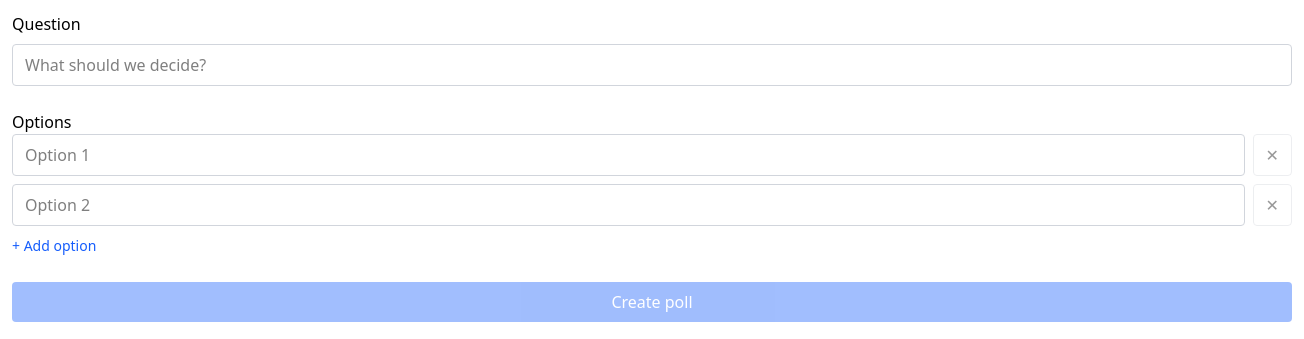
Scenario: CreatePollForm › submits the trimmed poll and shows a shareable link
Type "  Lunch?  " into the field labelled "Question" at point(652, 65), box x1=12 y1=44 x2=1292 y2=86
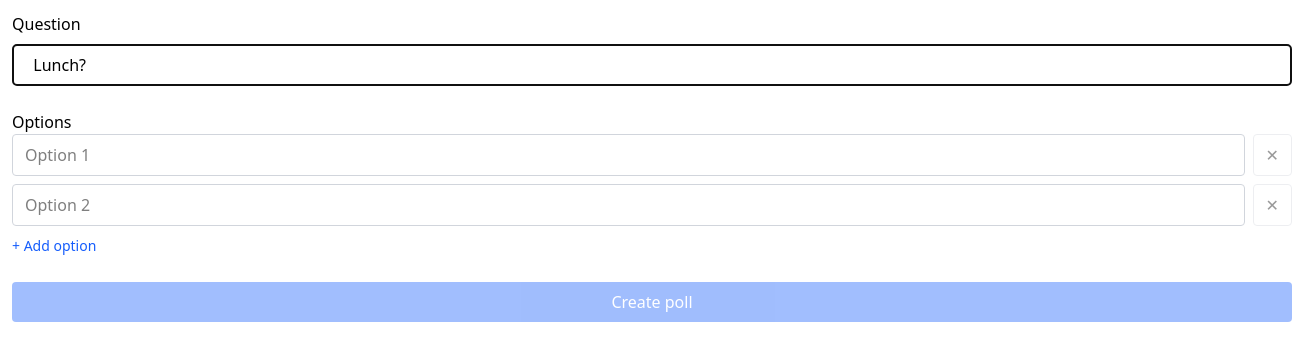
Type "Pizza" into the field labelled "Option 1" at point(628, 155), box x1=12 y1=134 x2=1245 y2=176
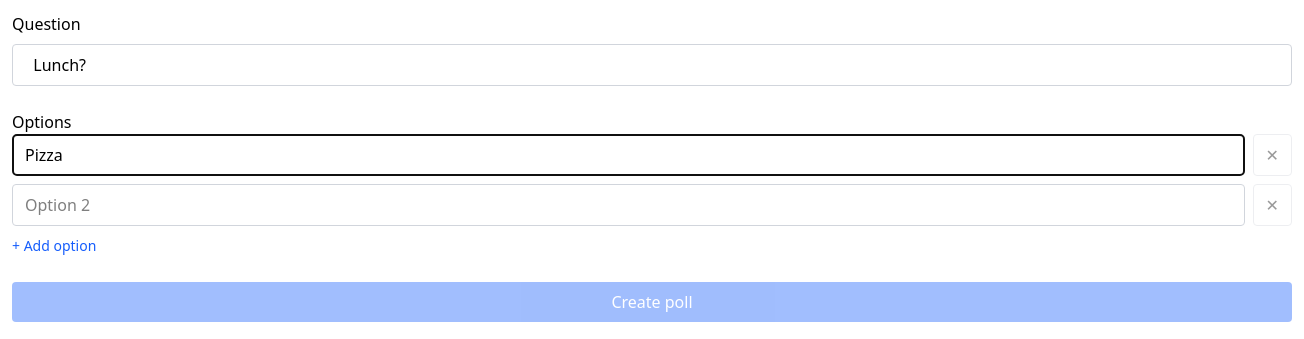
Type "Sushi" into the field labelled "Option 2" at point(628, 205), box x1=12 y1=184 x2=1245 y2=226
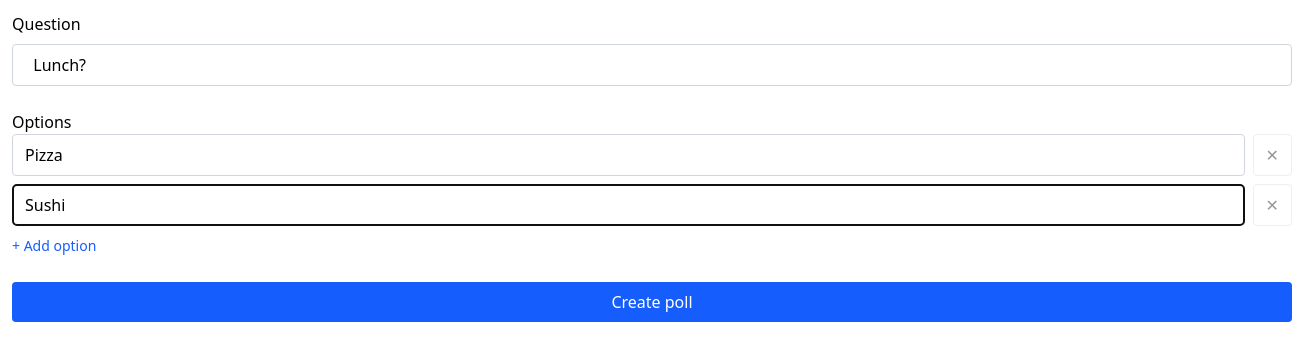
Click the button "Create poll" at point(652, 302), box x1=12 y1=282 x2=1292 y2=322
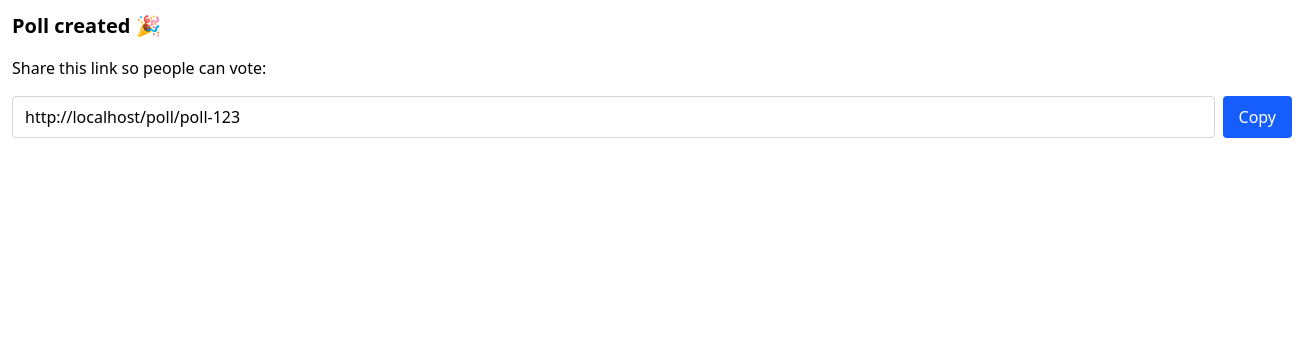
Expected: the field showing "/poll/poll-123" is shown, x1=12 y1=96 x2=1214 y2=138
